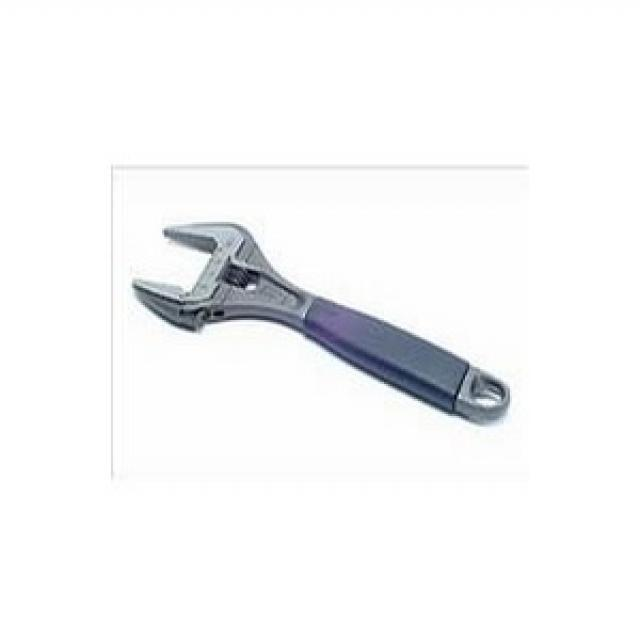wrench: (121, 209, 518, 432)
